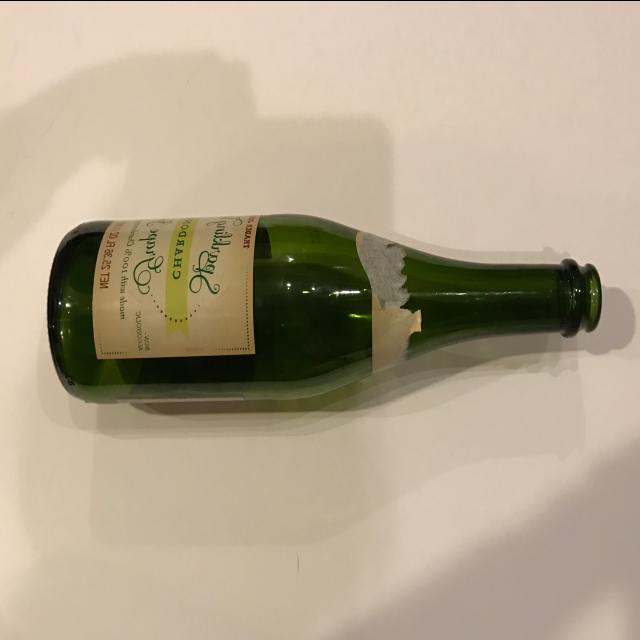glass: (54, 212, 600, 403)
